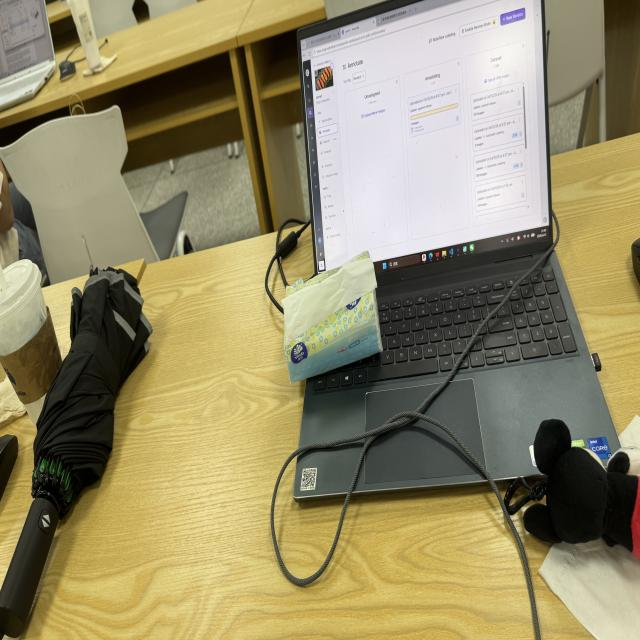mickey: (524, 420, 639, 559)
tissue: (283, 252, 381, 382)
